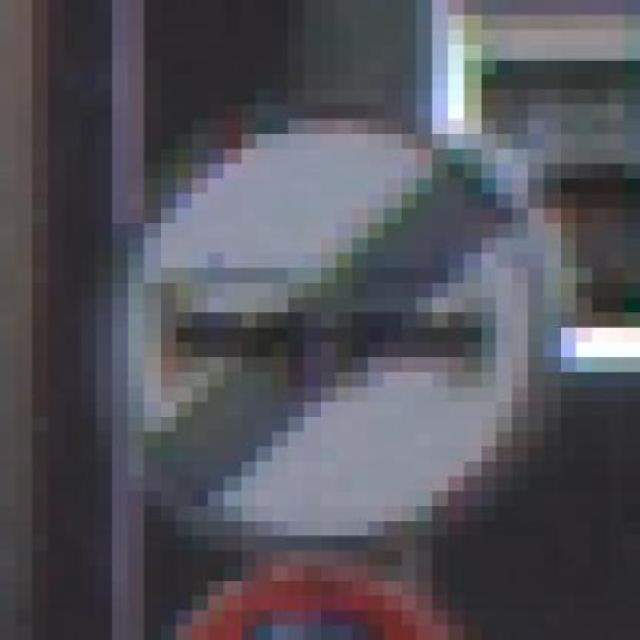No_Over_Taking: (31, 59, 608, 552)
